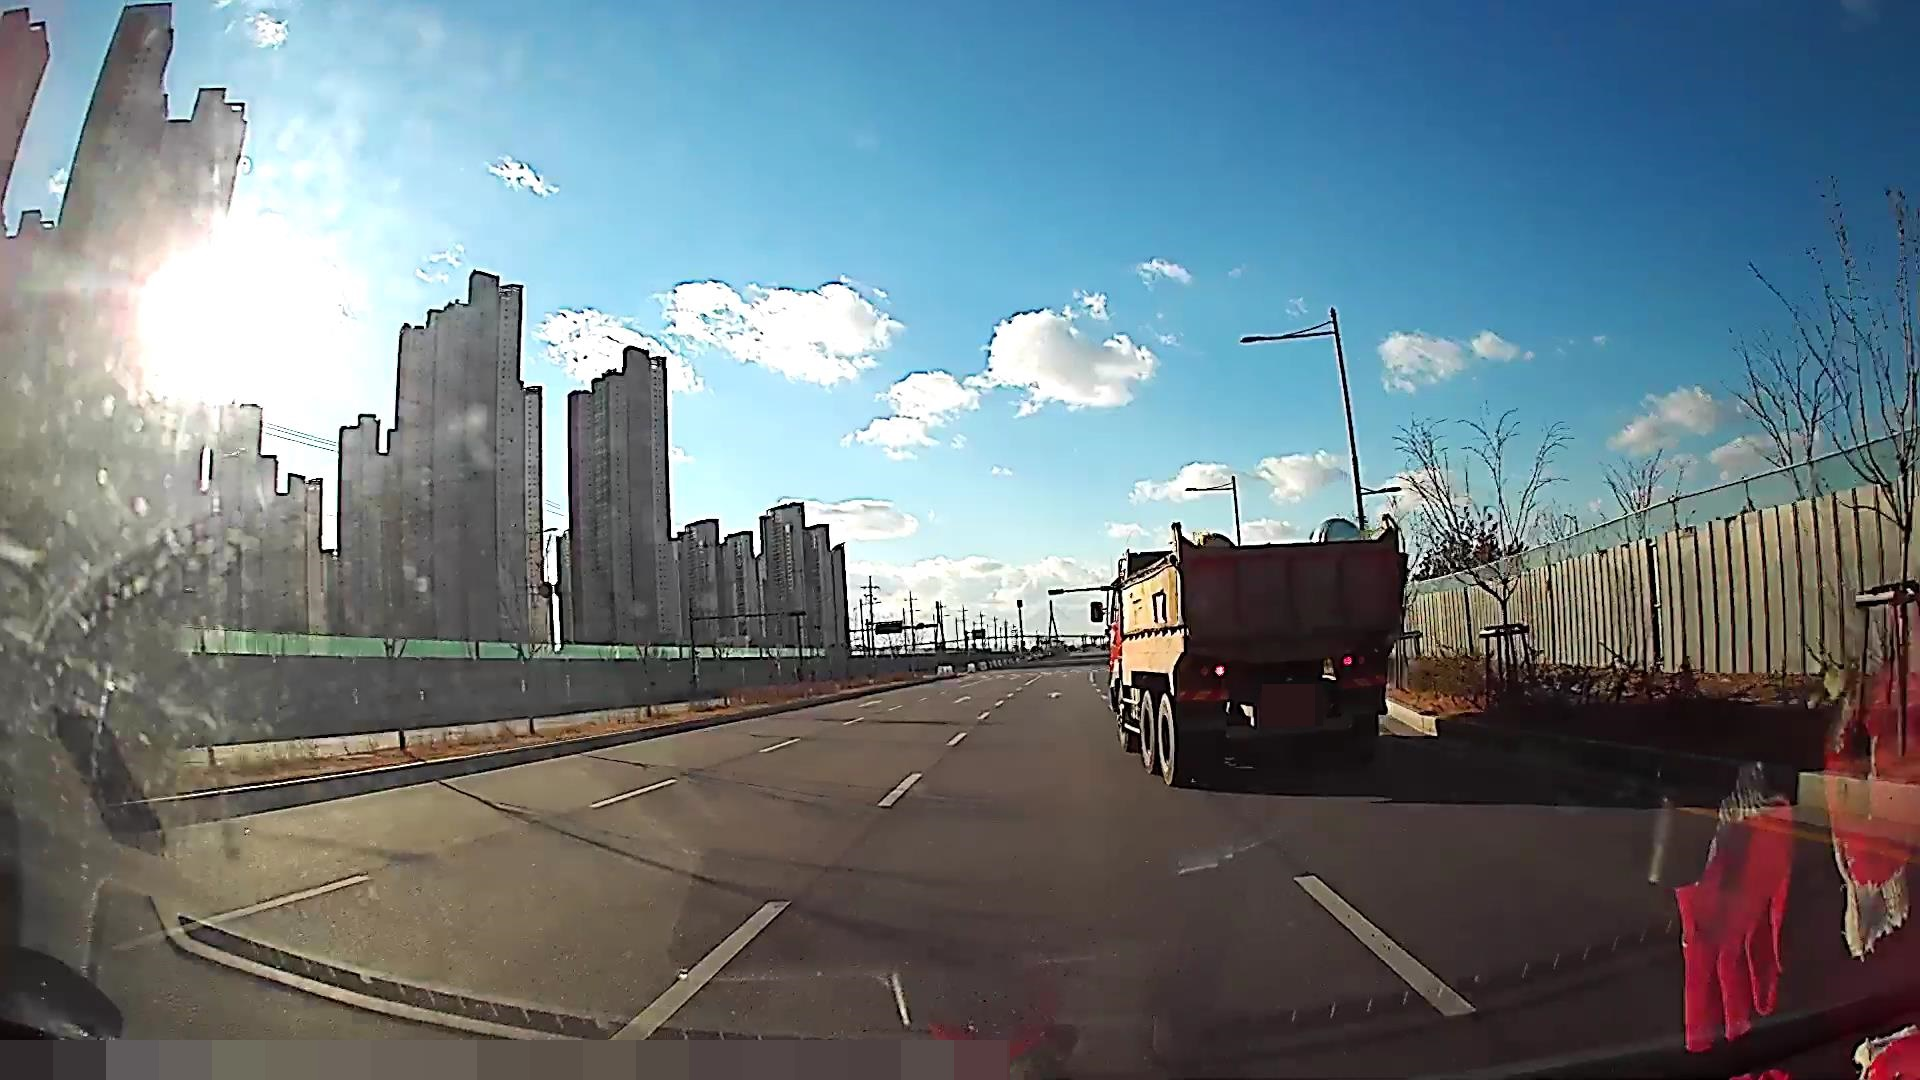불법차량: (1091, 513, 1408, 789)
